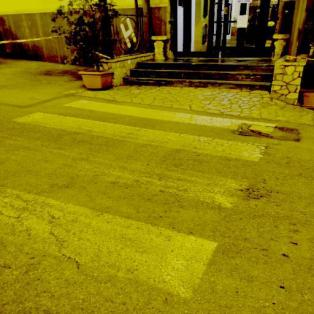Paso de Cebra: (8, 97, 284, 167)
